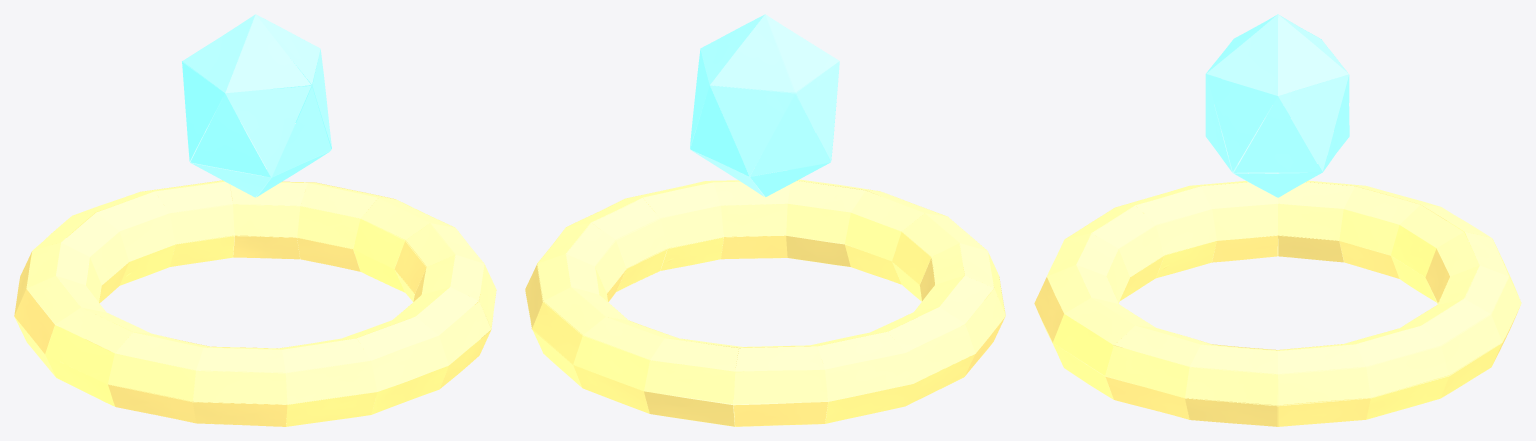
The model's file is ring.glb.
3 renders of one model, left to right at view 1: azimuth 30°, elevation 25°; view 2: azimuth 150°, elevation 25°; view 3: azimuth 270°, elevation 25°, orthographic.
Visible parts, largest first — view 1: RingBand; view 2: RingBand; view 3: RingBand.
Part boxes in pixels (bbox=[...]): RingBand: bbox=[14, 14, 496, 426]; RingBand: bbox=[525, 14, 1005, 426]; RingBand: bbox=[1034, 14, 1521, 426].
Bounding box in the file's own units: 0.5783 × 0.4307 × 0.5798.
